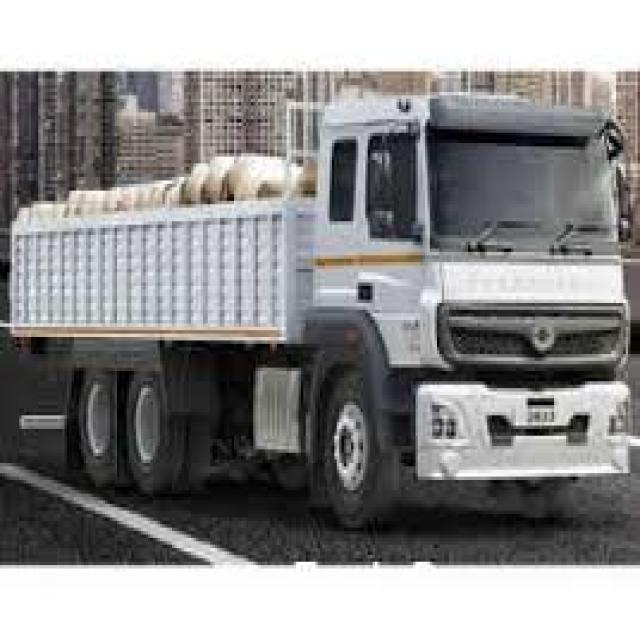uncovered: (9, 85, 636, 537)
